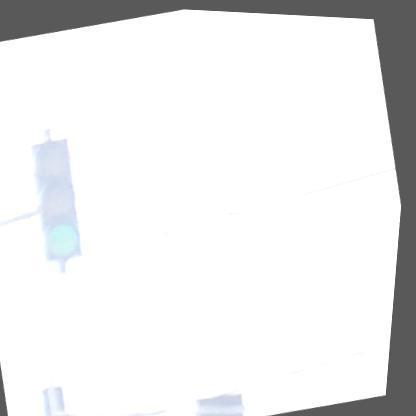green: (20, 134, 98, 265)
